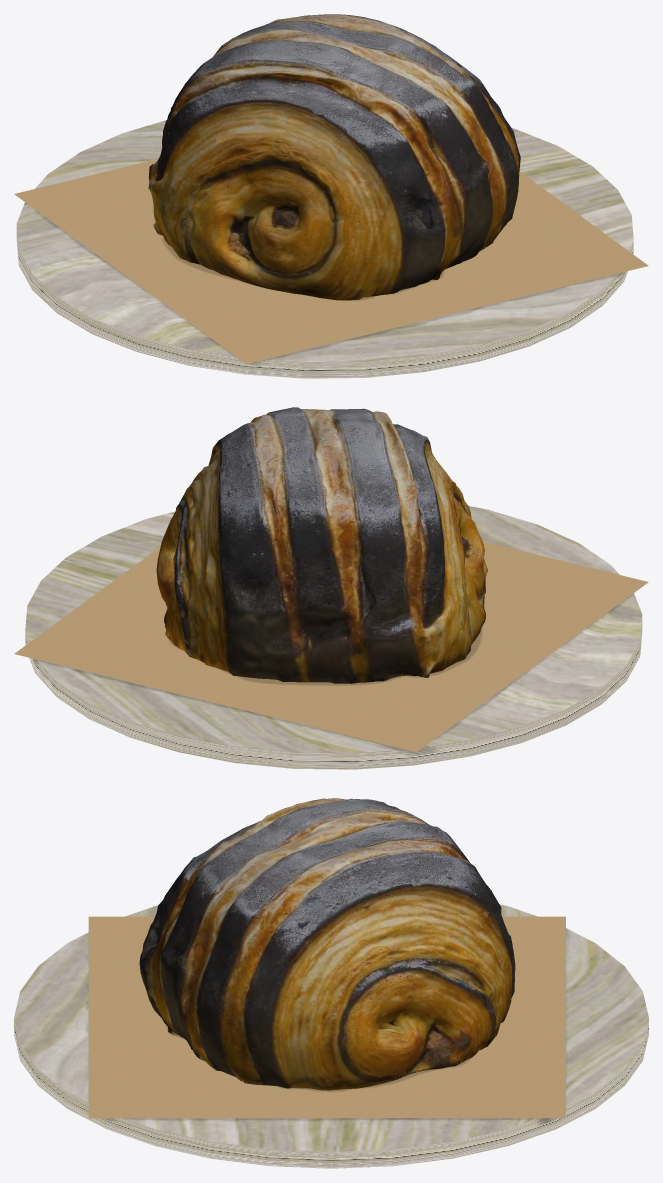
Rendered from choc-croissant.glb.
3 views of the same model, one above another, from view 1: azimuth 30°, elevation 25°; view 2: azimuth 150°, elevation 25°; view 3: azimuth 270°, elevation 25° (orthographic). The views are drawn at different scales.
Parts seen in each view (by area): view 1: ChocCroissant, Marble, Napkin; view 2: ChocCroissant, Marble, Napkin; view 3: ChocCroissant, Napkin, Marble.
Part boxes in pixels (x1=…): ChocCroissant: x1=148, y1=14, x2=520, y2=300; Marble: x1=16, y1=120, x2=633, y2=378; Napkin: x1=14, y1=159, x2=648, y2=363; ChocCroissant: x1=156, y1=407, x2=487, y2=683; Marble: x1=25, y1=506, x2=642, y2=769; Napkin: x1=14, y1=541, x2=648, y2=751; ChocCroissant: x1=139, y1=798, x2=515, y2=1090; Napkin: x1=88, y1=916, x2=565, y2=1118; Marble: x1=14, y1=904, x2=648, y2=1168.
Size of the model in its own units: 0.2197 by 0.0818 by 0.2197.
3 materials, 3 textured.
